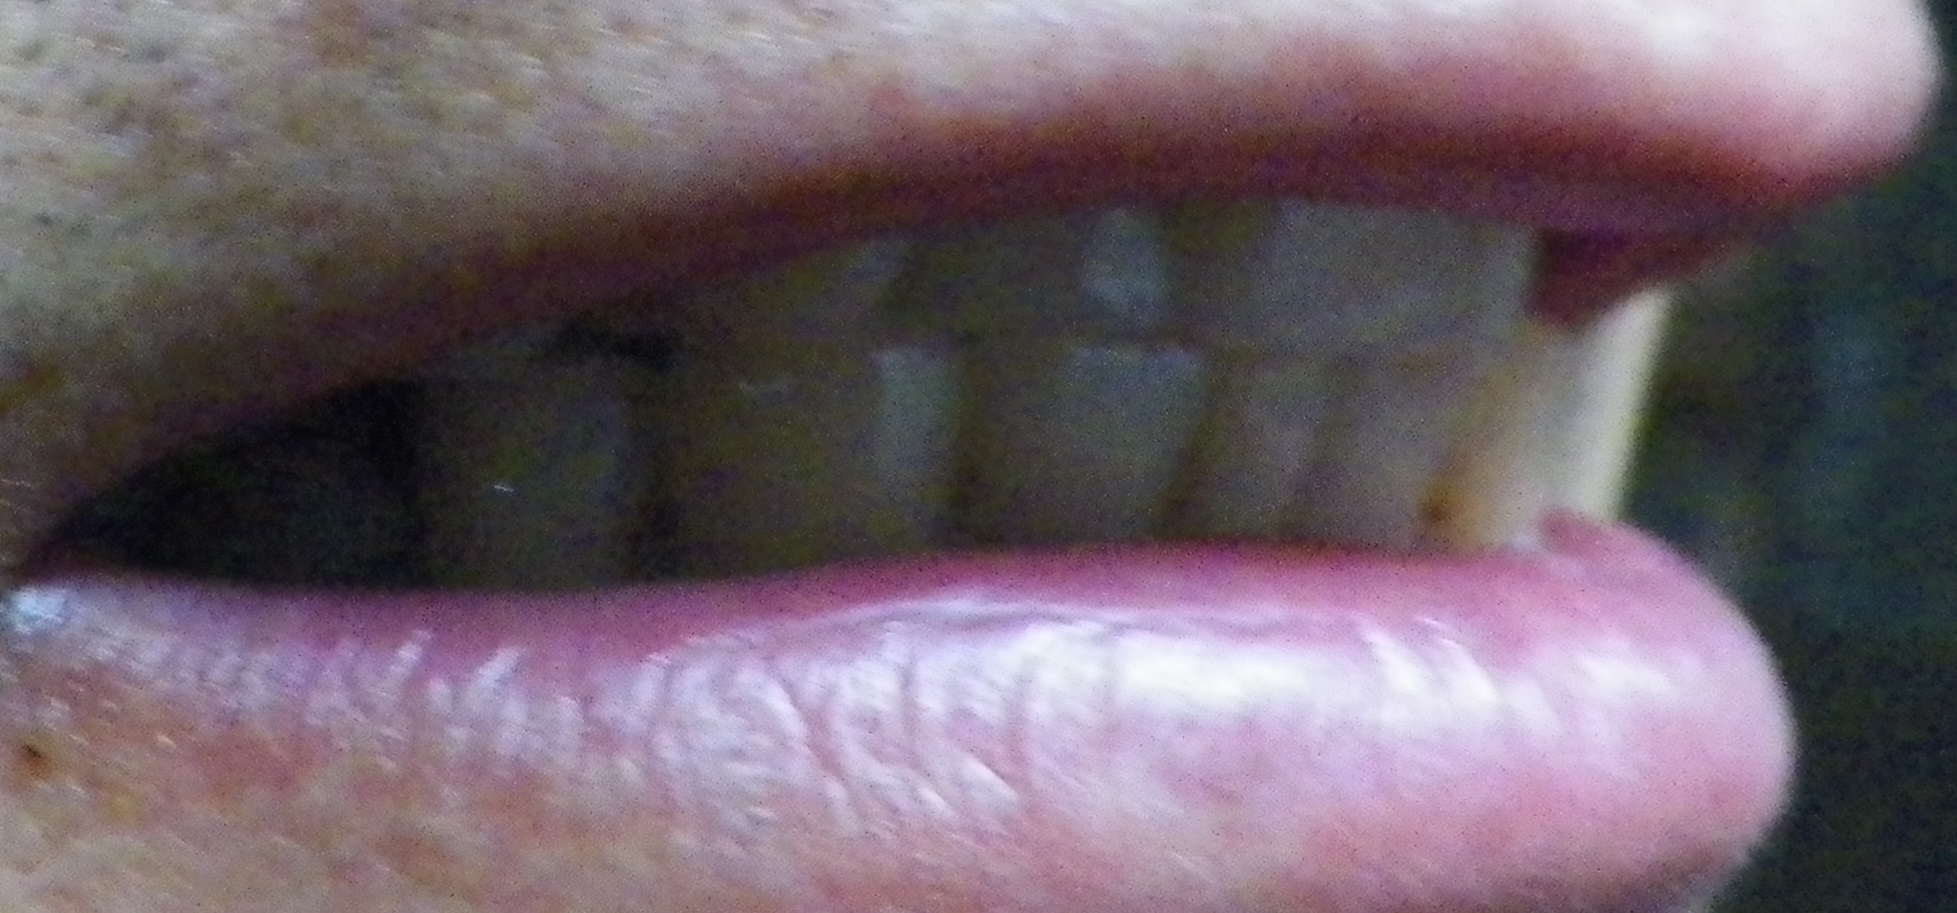boca: (129, 215, 1575, 592)
